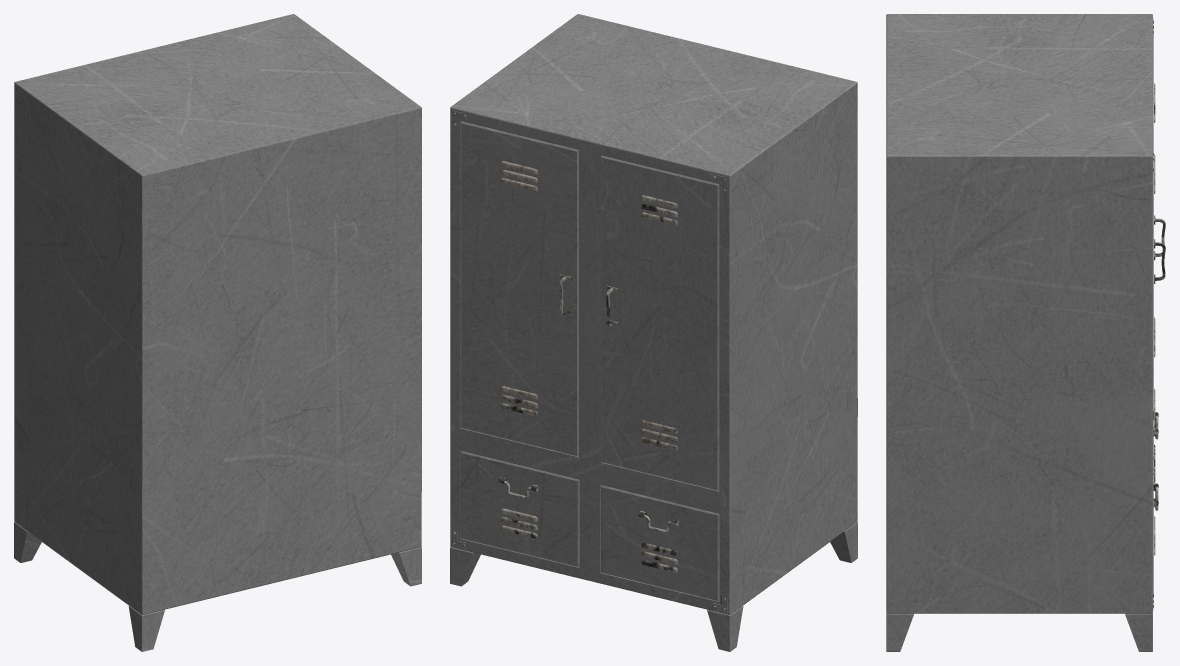
Rendered from scratched_metal_cabinet.glb.
3 views of the same model, side by side, from view 1: azimuth 30°, elevation 25°; view 2: azimuth 150°, elevation 25°; view 3: azimuth 270°, elevation 25° (orthographic). The views are drawn at different scales.
Visible parts, largest first — view 1: Lower Handles; view 2: Lower Handles; view 3: Lower Handles.
Part boxes in pixels (left/top/right/bottom): Lower Handles: left=14, top=14, right=421, bottom=651; Lower Handles: left=450, top=14, right=857, bottom=651; Lower Handles: left=886, top=14, right=1165, bottom=651.
Size of the model in its own units: 0.48 by 0.78 by 0.3981.
1 material, 1 textured.
